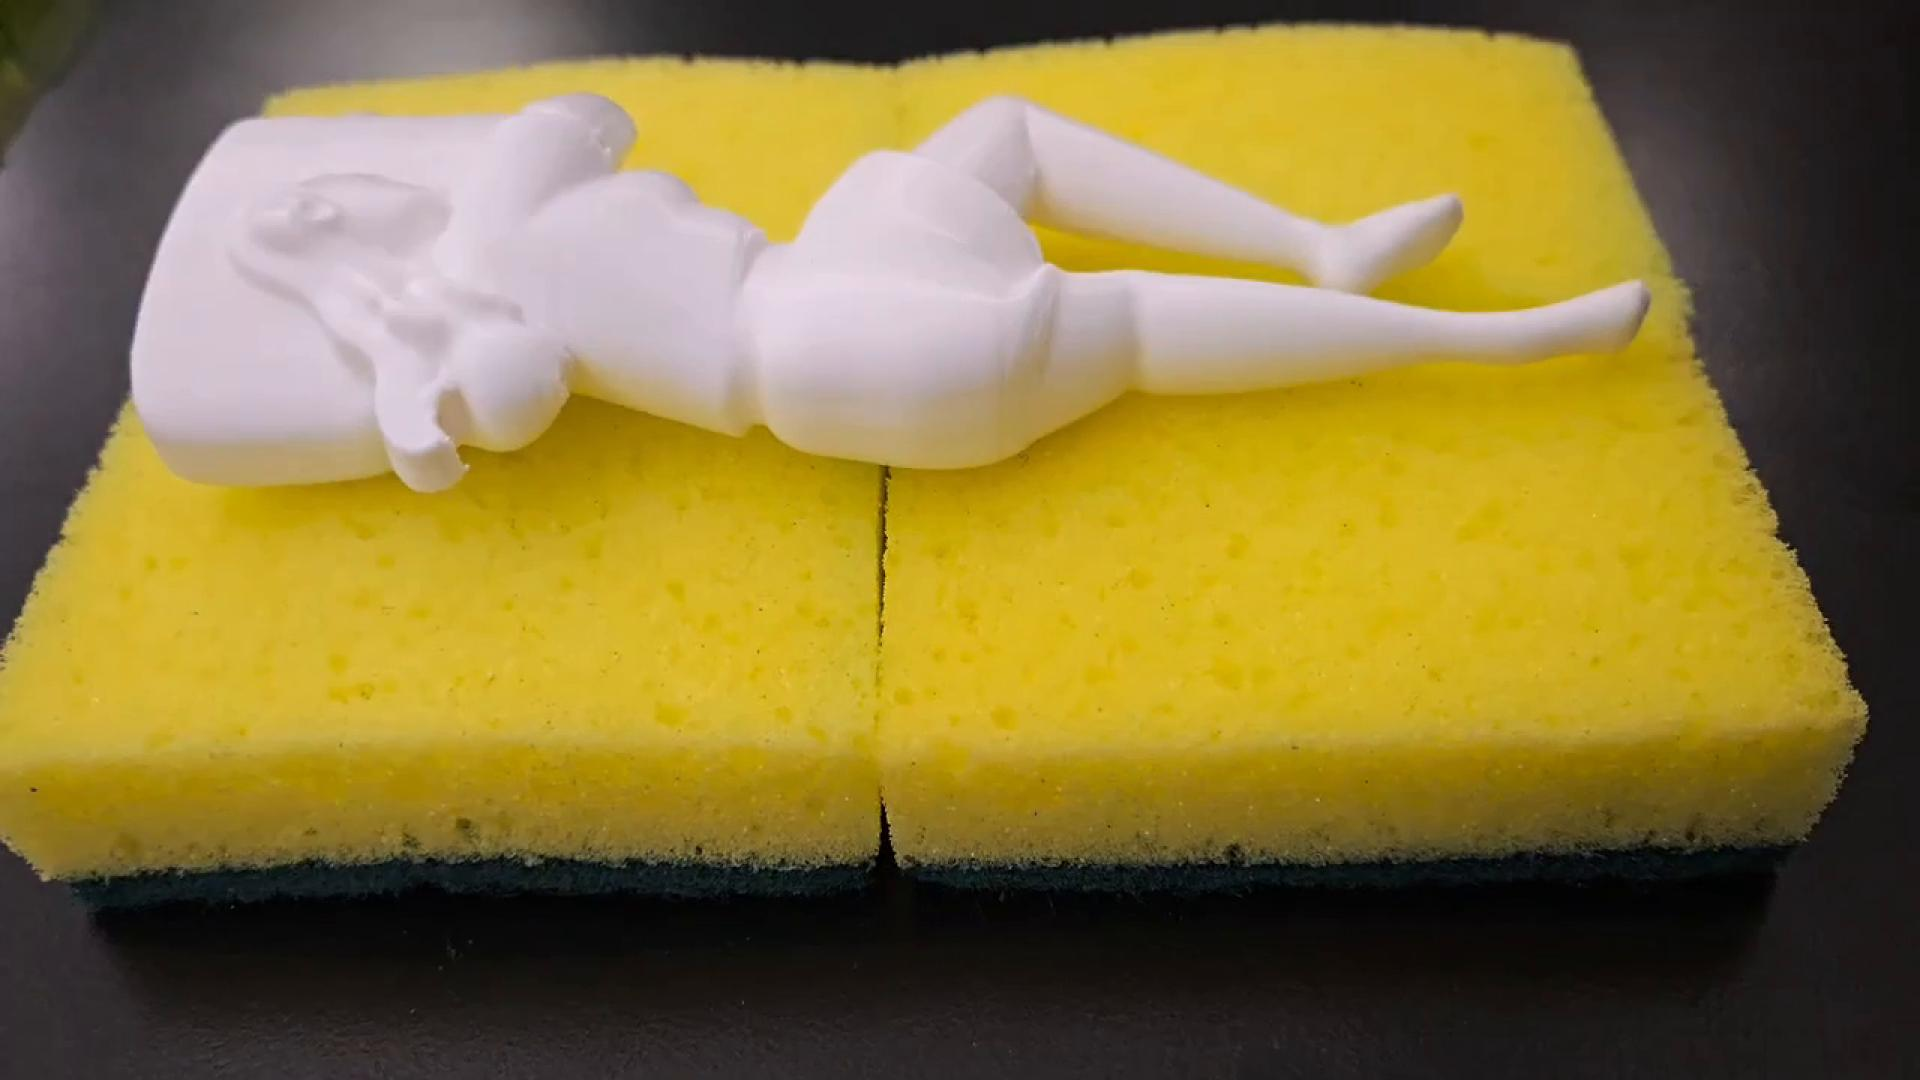Good-style: (120, 84, 1671, 501)
